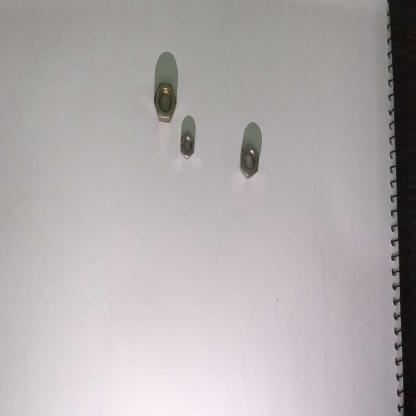NUTS: (153, 78, 179, 122), (239, 142, 262, 183), (179, 132, 197, 158)
